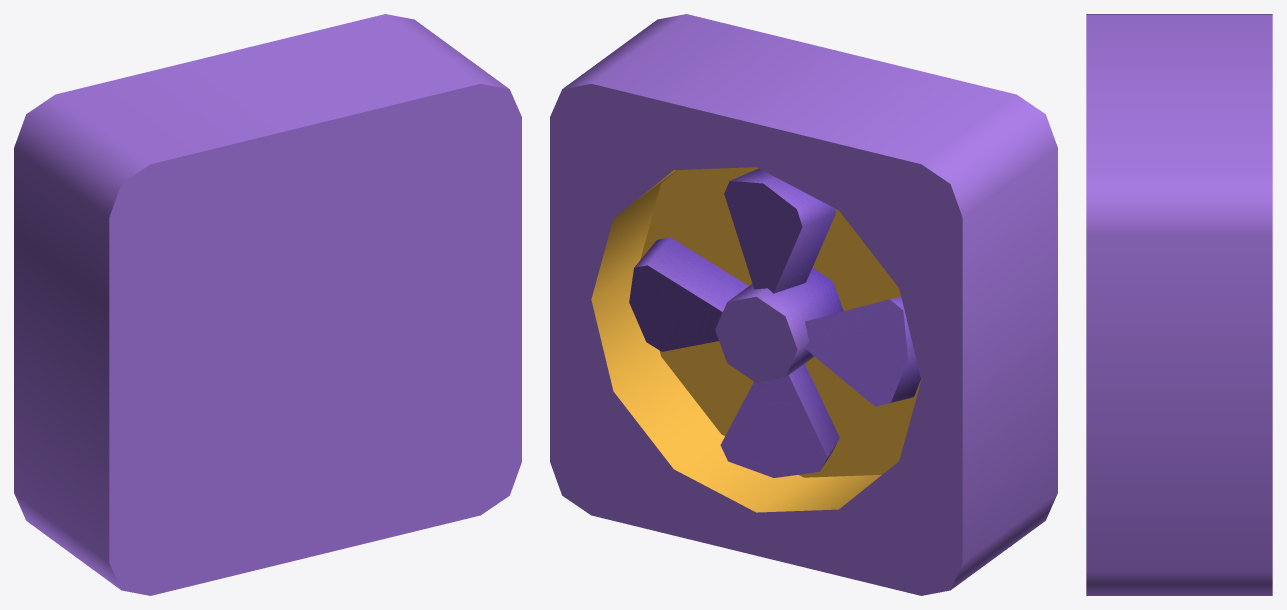
Rendered from fan-standing-four.glb.
3 views of the same model, side by side, from view 1: azimuth 30°, elevation 25°; view 2: azimuth 150°, elevation 25°; view 3: azimuth 270°, elevation 25° (orthographic). The views are drawn at different scales.
Parts seen in each view (by area): view 1: fan-standing-four; view 2: fan-standing-four, fan; view 3: fan-standing-four.
Part boxes in pixels (<box>): fan-standing-four: <box>14,14,521,595</box>; fan-standing-four: <box>550,14,1057,595</box>; fan: <box>629,168,920,477</box>; fan-standing-four: <box>1086,14,1272,595</box>.
Bounding box in the file's own units: 1 × 1 × 0.4.
Materials: 1 (1 with a texture image).
